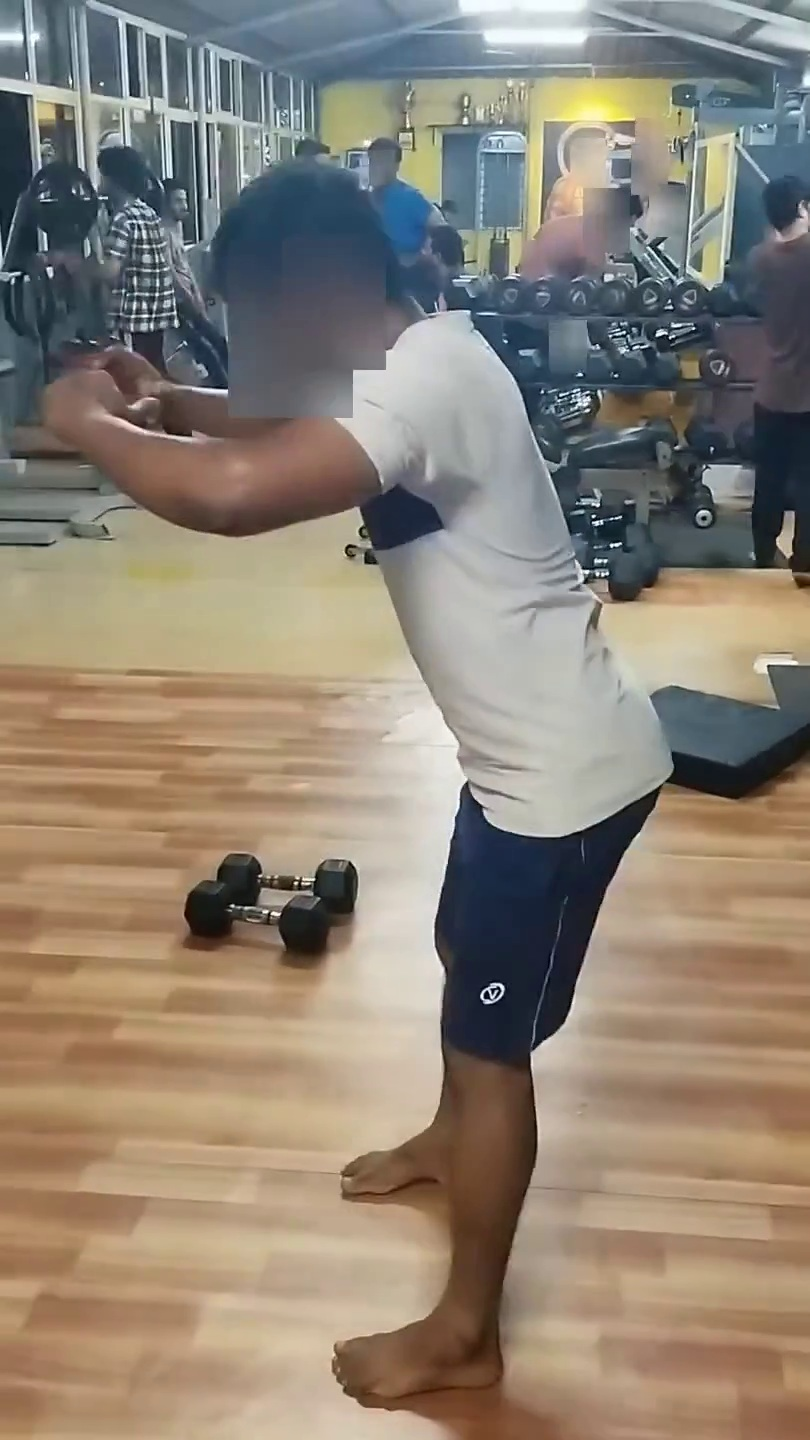squat_incorrect: (0, 184, 656, 1440)
